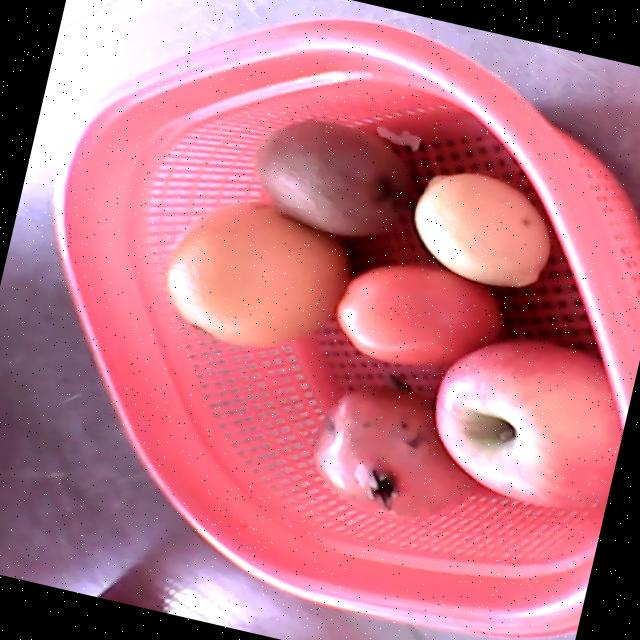apple: (435, 337, 622, 507)
kiwi: (256, 120, 413, 235)
lemon: (416, 172, 548, 285)
orange: (165, 203, 350, 346)
pomegranate: (309, 382, 474, 519)
tomato: (335, 263, 502, 365)
